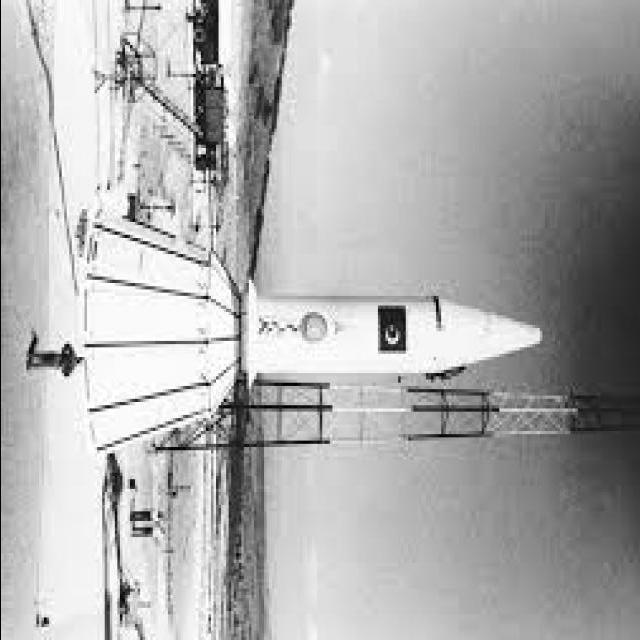Missile: (233, 274, 544, 398)
